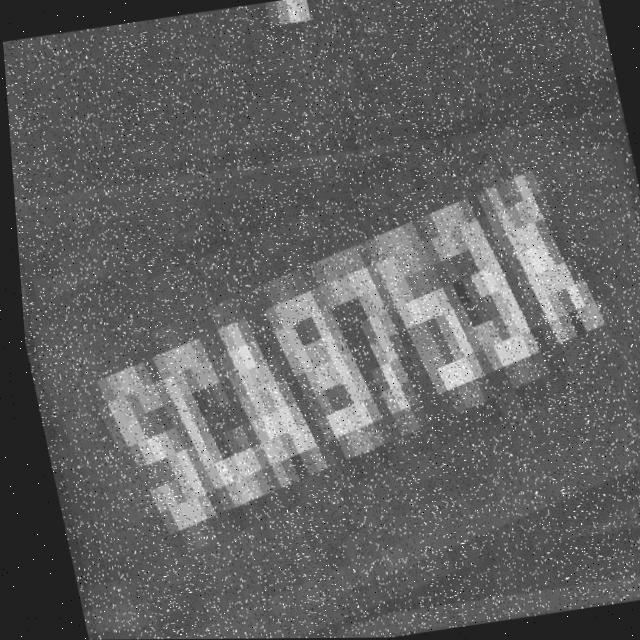LicensePlate: (7, 111, 640, 640)
